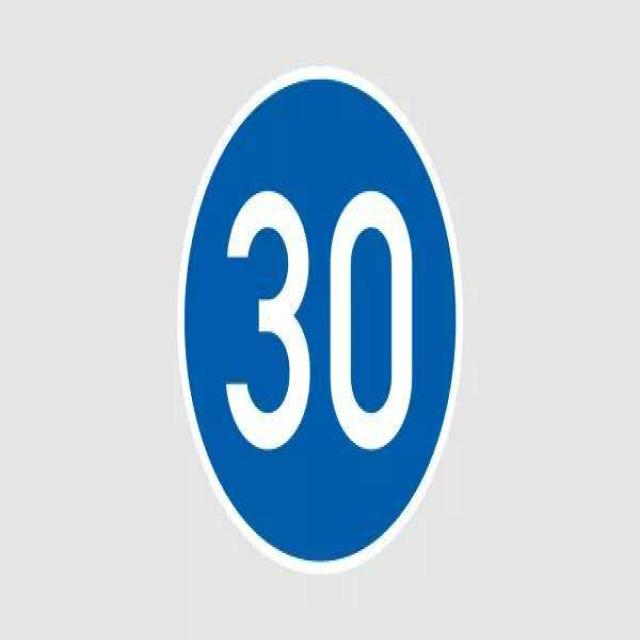speed limit 30: (179, 69, 463, 570)
